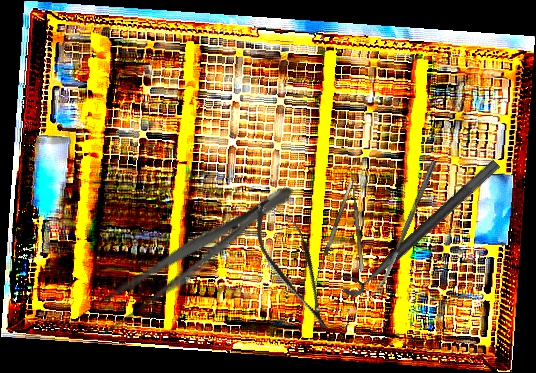Dressing Forceps: (84, 171, 303, 341)
Fixation Ring: (333, 146, 502, 302)
Hook Surgical: (311, 181, 359, 291), (344, 170, 365, 273)
Micro Scissor: (242, 192, 346, 340)
Surgical Spoon: (376, 159, 437, 293)
